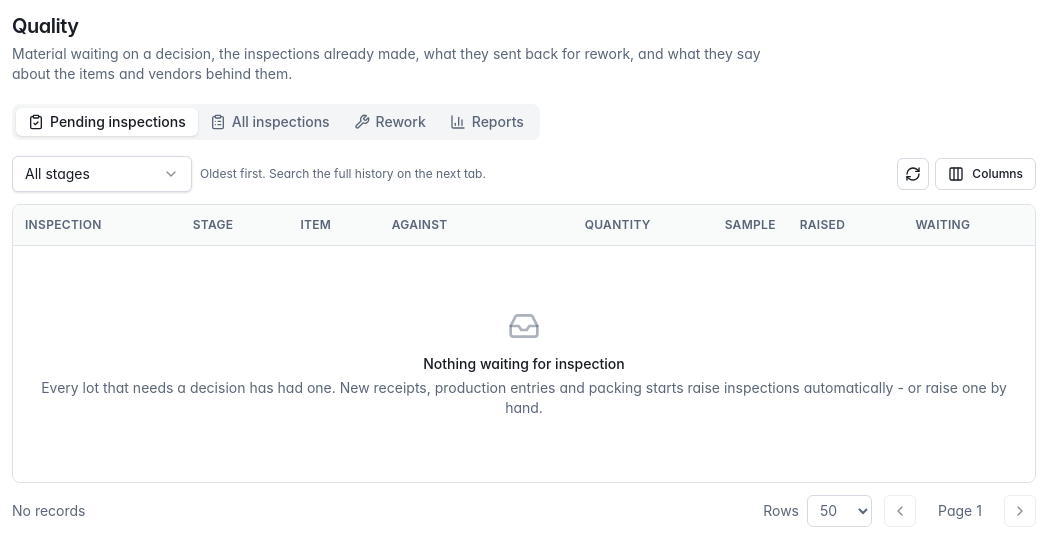
Test case: the inspection history › is a different endpoint from the queue, and is the one that searches
expect the text "Nothing waiting for inspection" is shown: met, box 423,354 -> 625,372
Click the tab "All inspections": (270, 122) 198,108 -> 342,136
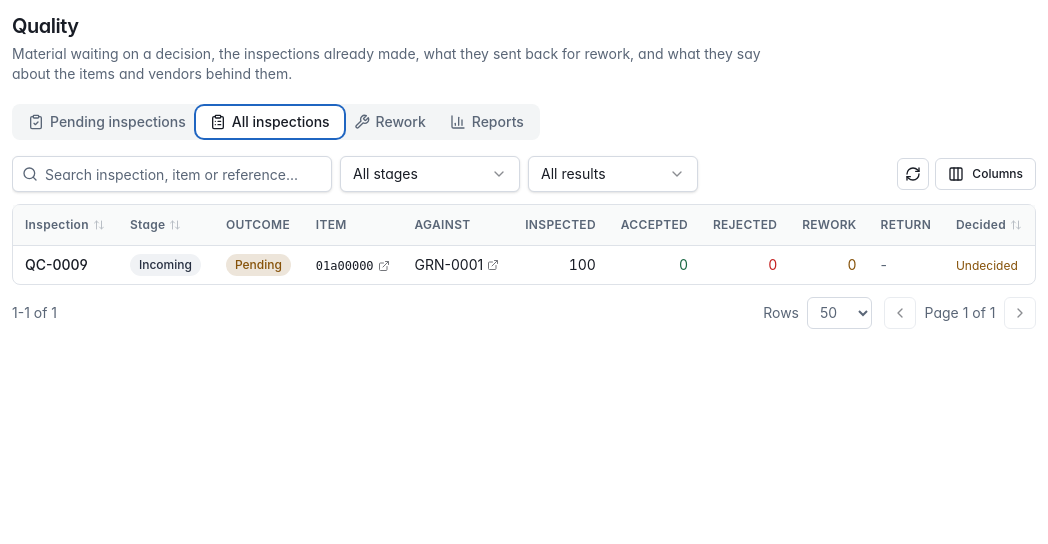
expect the text "QC-0009" is shown: met, box 25,256 -> 88,272
expect the field labelled "Search inspection, item or reference..." is shown: met, box 12,156 -> 332,192
